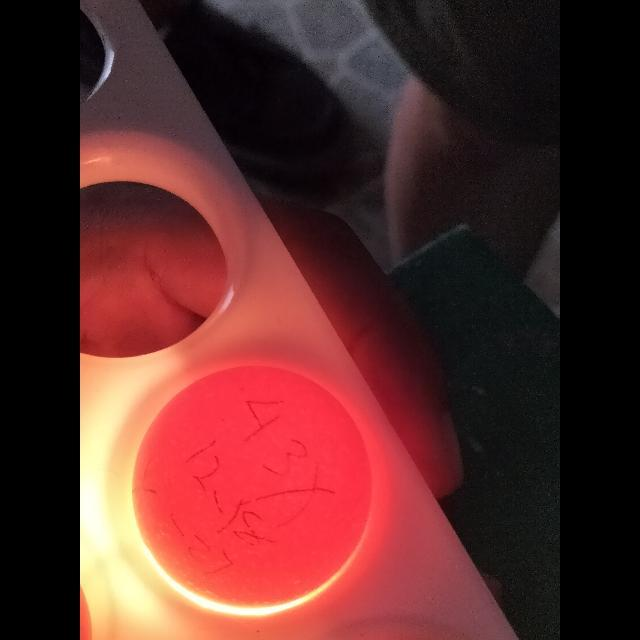Infertile: (138, 360, 378, 602)
